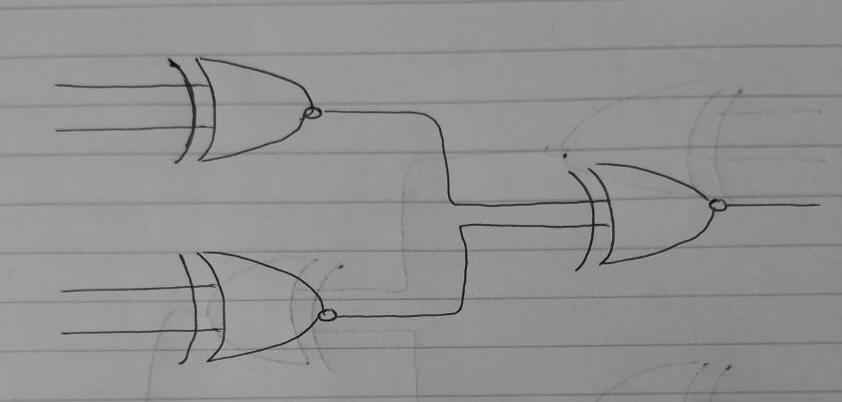XNOR: (161, 238, 355, 367), (565, 147, 745, 285), (158, 50, 343, 172)
